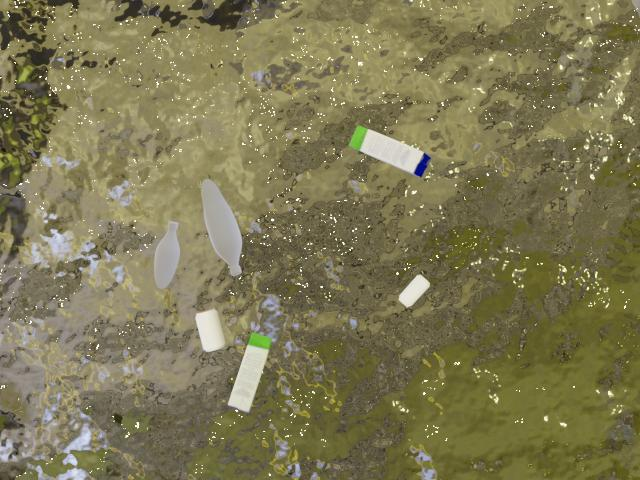Metal: (388, 259, 448, 325), (182, 294, 236, 360)
Plastic: (131, 159, 254, 293)
Trash: (335, 104, 448, 210), (230, 311, 288, 446)
